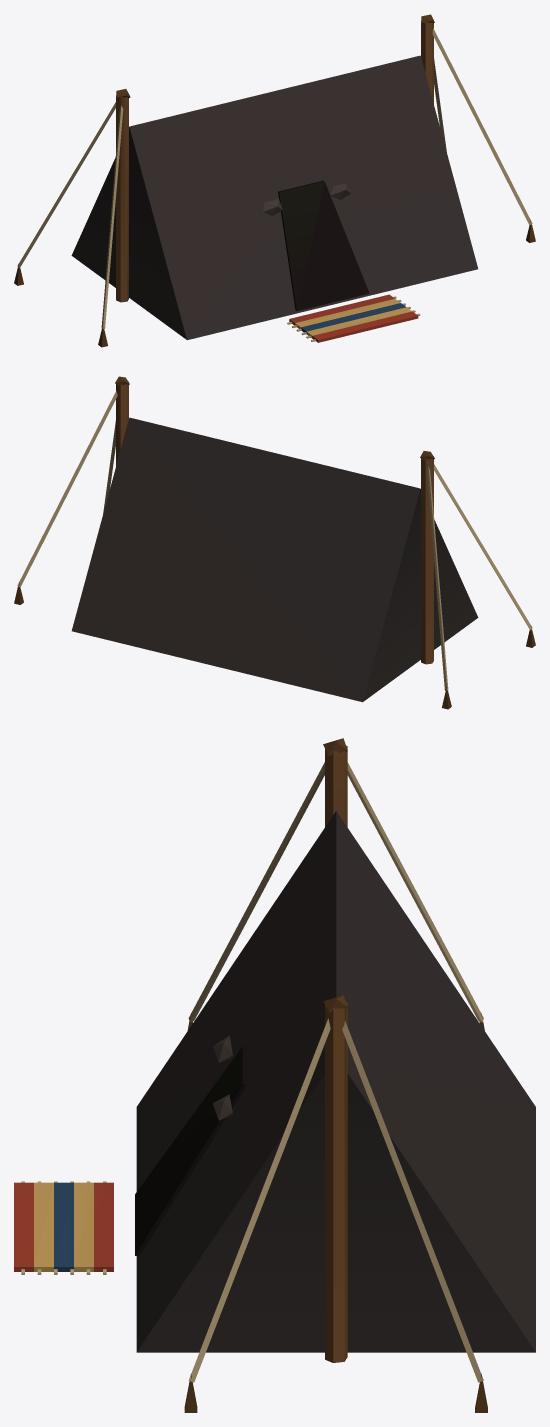
The picture shows the model from 3 angles, top to bottom: view 1: azimuth 30°, elevation 25°; view 2: azimuth 150°, elevation 25°; view 3: azimuth 270°, elevation 25°; orthographic projection. The views are drawn at different scales.
Parts seen in each view (by area): view 1: base; view 2: base; view 3: base.
Boxes of the visible parts, <box> form: base: <box>14,14,535,347</box>; base: <box>14,376,535,709</box>; base: <box>14,738,535,1412</box>.
Size of the model in its own units: 0.9541 by 0.441 by 0.575.
